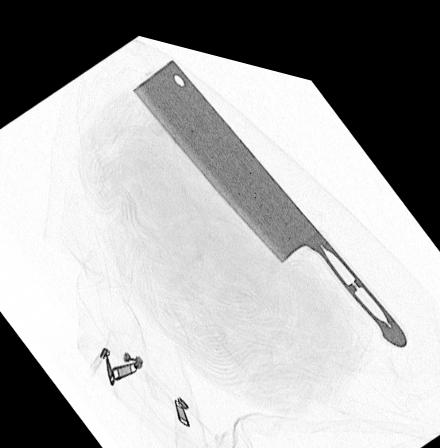Knife: (129, 49, 409, 328)
